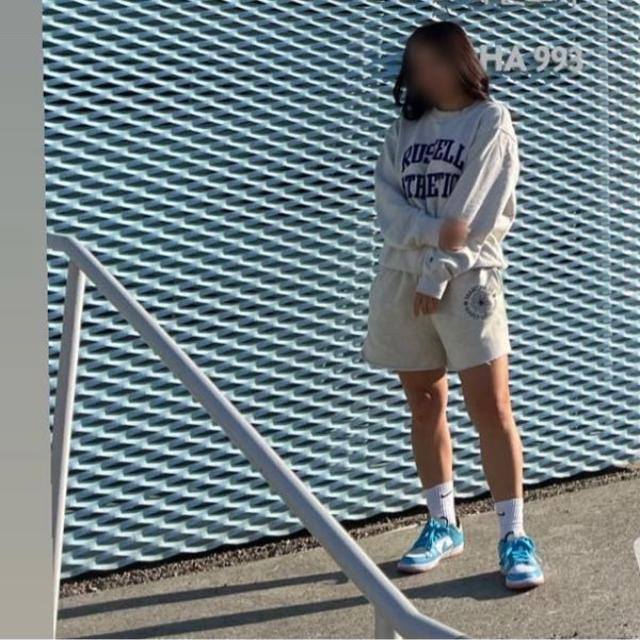mtm: (371, 101, 523, 299)
shortpants: (364, 261, 511, 374)
